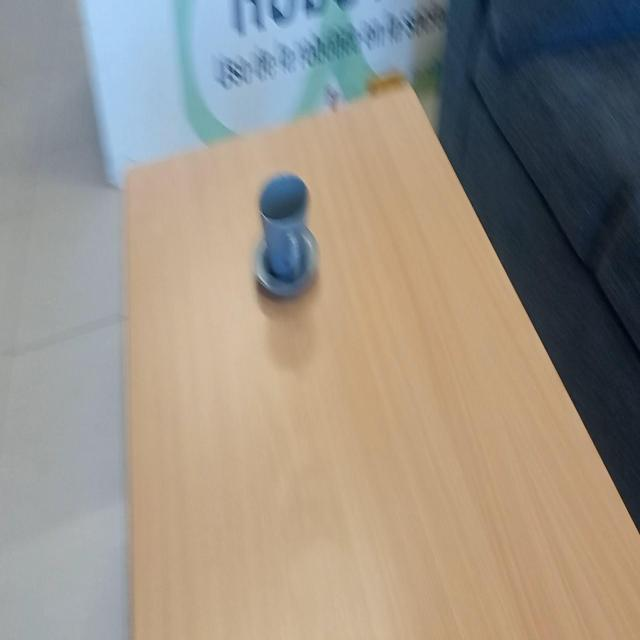cup: (258, 176, 313, 285)
